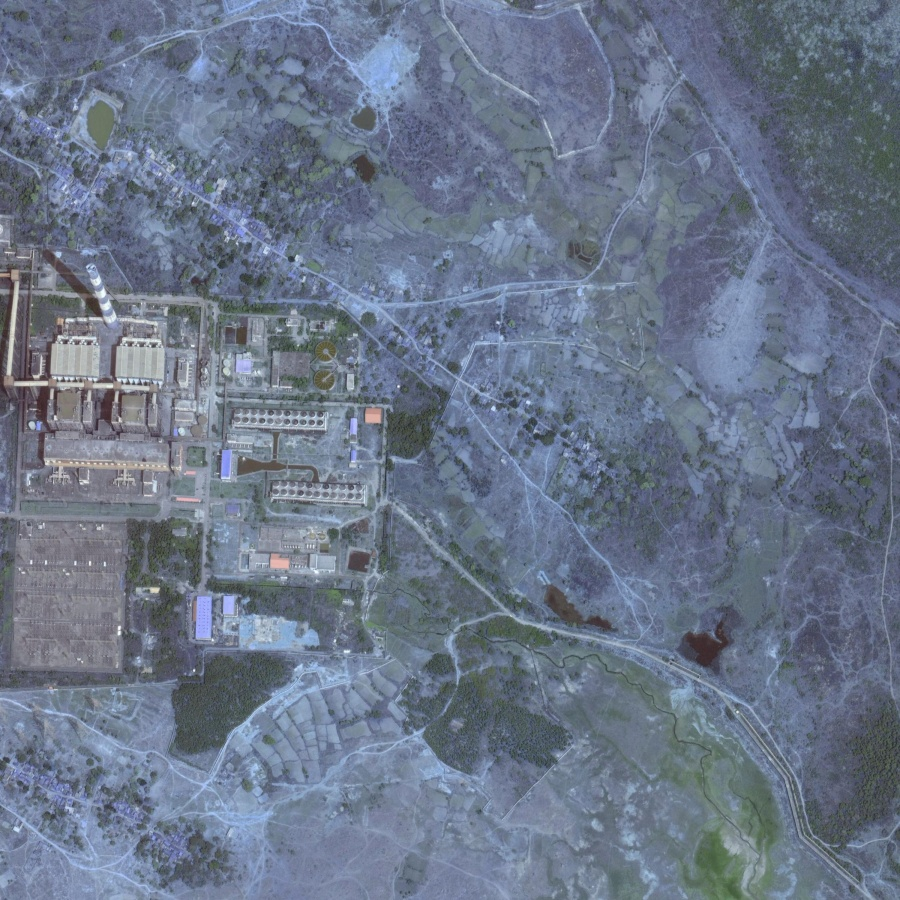PowerPlant: (17, 224, 171, 357)
